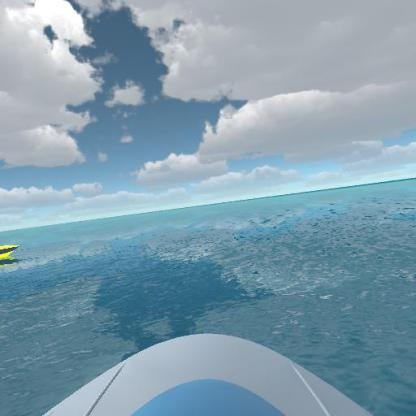usv2: (0, 239, 24, 267)
